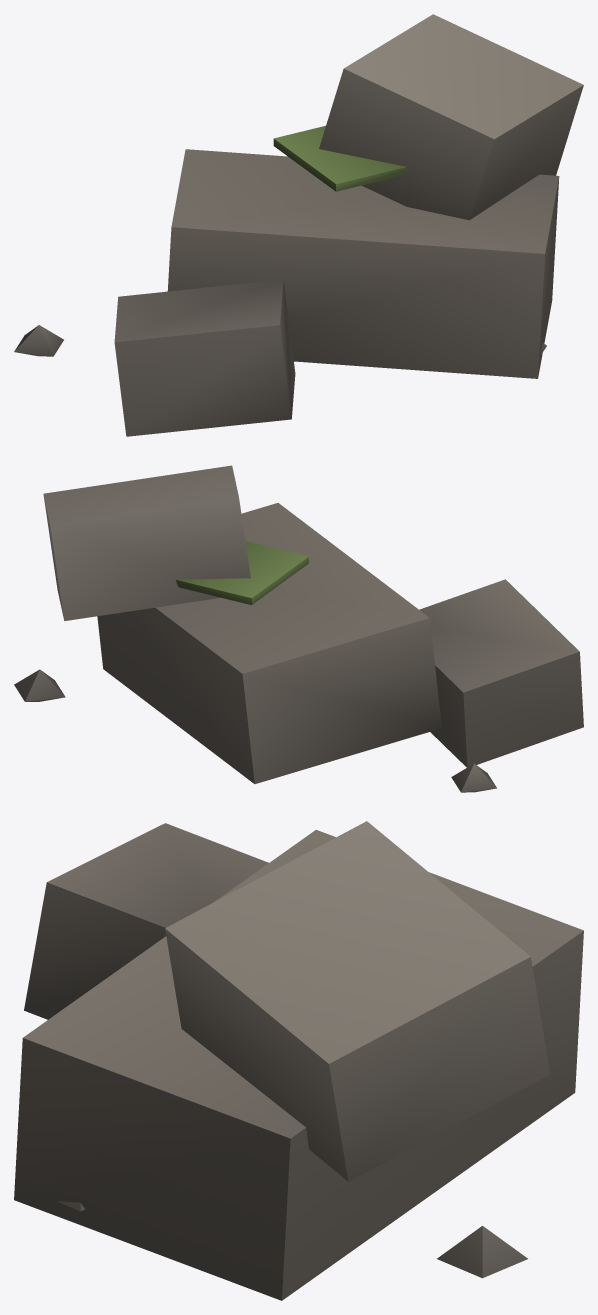
Rendered from ruins-rubble-b-low.glb.
The picture shows the model from 3 angles, top to bottom: view 1: azimuth 30°, elevation 25°; view 2: azimuth 150°, elevation 25°; view 3: azimuth 270°, elevation 25°; orthographic projection. The views are drawn at different scales.
Parts seen in each view (by area): view 1: 0_ruins_rubble_1; view 2: 0_ruins_rubble_1; view 3: 0_ruins_rubble_1.
Part boxes in pixels (bbox=[...]): 0_ruins_rubble_1: bbox=[14, 14, 583, 436]; 0_ruins_rubble_1: bbox=[14, 465, 583, 792]; 0_ruins_rubble_1: bbox=[14, 821, 583, 1300].
Size of the model in its own units: 1.48 by 0.6721 by 0.9715.
